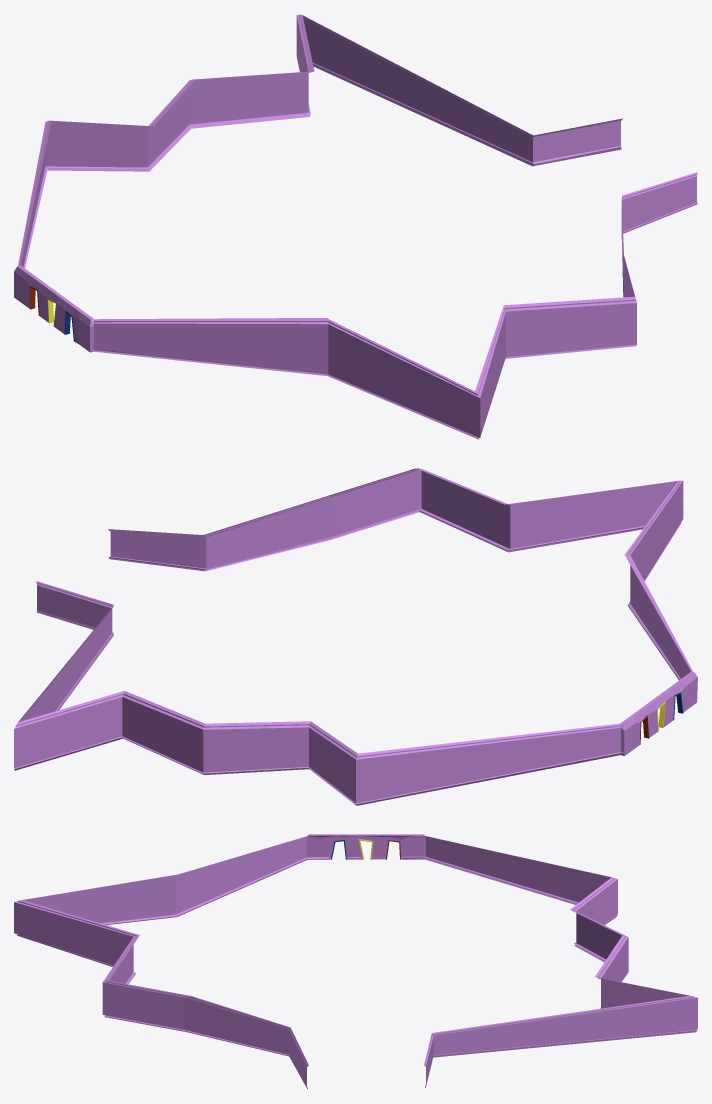
Rendered from Mur_100M.fbx.
3 renders of one model, top to bottom at view 1: azimuth 30°, elevation 25°; view 2: azimuth 150°, elevation 25°; view 3: azimuth 270°, elevation 25°, orthographic. The views are drawn at different scales.
Visible parts, largest first — view 1: Mur_Salle100m, Mur_Porte100m; view 2: Mur_Salle100m, Mur_Porte100m; view 3: Mur_Salle100m, Mur_Porte100m.
Part boxes in pixels (left/top/right/bottom): Mur_Salle100m: left=18, top=14, right=697, bottom=439; Mur_Porte100m: left=14, top=265, right=94, bottom=352; Mur_Salle100m: left=14, top=468, right=693, bottom=805; Mur_Porte100m: left=620, top=671, right=697, bottom=756; Mur_Salle100m: left=14, top=836, right=697, bottom=1088; Mur_Porte100m: left=307, top=834, right=425, bottom=859.
Bounding box in the file's own units: 10097 × 884 × 12563.
